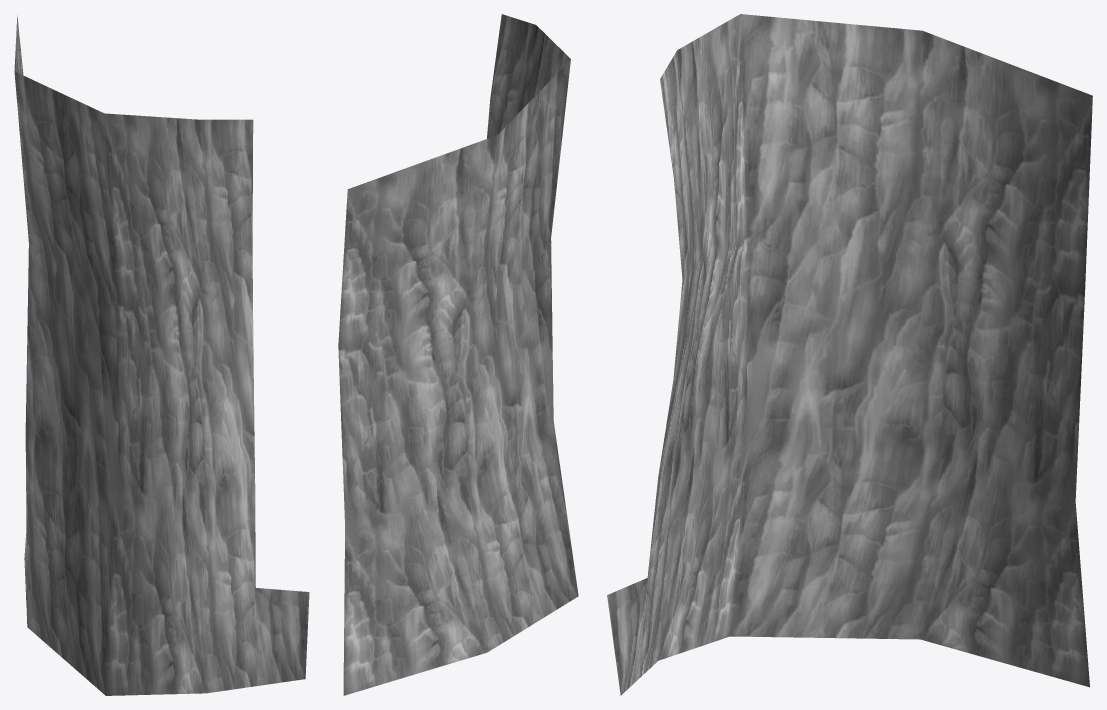
Rendered from SWORDLIGHT20_PS-AREA03_35.fbx.
The picture shows the model from 3 angles, left to right: view 1: azimuth 30°, elevation 25°; view 2: azimuth 150°, elevation 25°; view 3: azimuth 270°, elevation 25°; orthographic projection. The views are drawn at different scales.
Parts seen in each view (by area): view 1: SWORDLIGHT20_PS-AREA03_35; view 2: SWORDLIGHT20_PS-AREA03_35; view 3: SWORDLIGHT20_PS-AREA03_35.
Boxes of the visible parts, bbox=[...] form: SWORDLIGHT20_PS-AREA03_35: bbox=[14, 15, 309, 695]; SWORDLIGHT20_PS-AREA03_35: bbox=[338, 14, 578, 695]; SWORDLIGHT20_PS-AREA03_35: bbox=[607, 14, 1092, 695].
Size of the model in its own units: 39589 by 145988 by 101965.
Materials: 1 (1 with a texture image).
